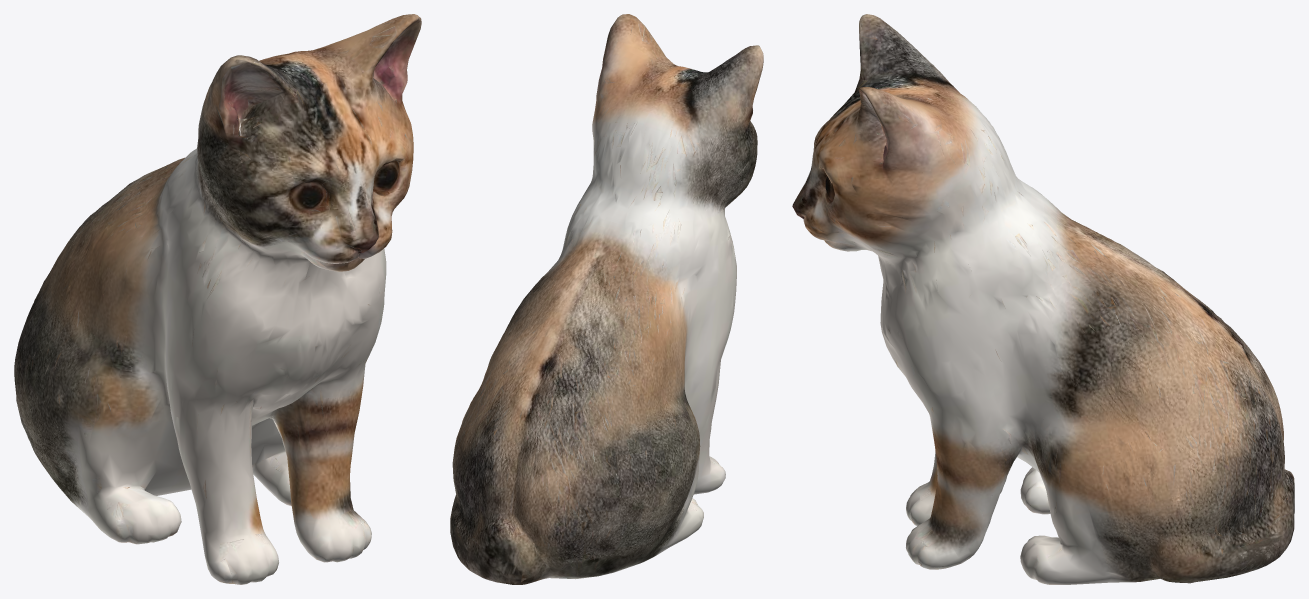
Rendered from cat-calico.glb.
The picture shows the model from 3 angles, left to right: view 1: azimuth 30°, elevation 25°; view 2: azimuth 150°, elevation 25°; view 3: azimuth 270°, elevation 25°; orthographic projection. The views are drawn at different scales.
Parts seen in each view (by area): view 1: Mesh_0; view 2: Mesh_0; view 3: Mesh_0.
Boxes of the visible parts, <box> form: Mesh_0: <box>14,14,421,584</box>; Mesh_0: <box>450,14,763,584</box>; Mesh_0: <box>792,14,1294,584</box>.
Size of the model in its own units: 0.9841 by 1.9 by 1.77.
Materials: 1 (1 with a texture image).
